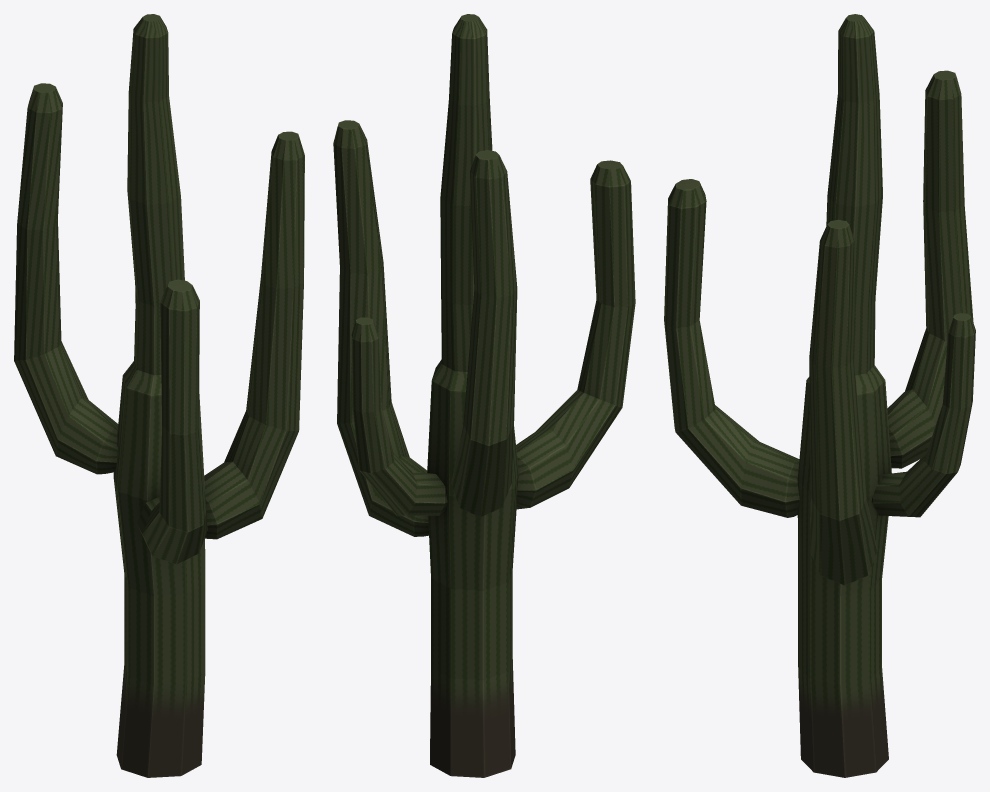
The model's file is Saguaro.gltf.
3 renders of one model, left to right at view 1: azimuth 30°, elevation 25°; view 2: azimuth 150°, elevation 25°; view 3: azimuth 270°, elevation 25°, orthographic.
Parts seen in each view (by area): view 1: node-0; view 2: node-0; view 3: node-0.
Boxes of the visible parts, left/top/right/bottom form: node-0: left=14, top=14, right=304, bottom=777; node-0: left=333, top=14, right=635, bottom=777; node-0: left=664, top=14, right=975, bottom=777.
Size of the model in its own units: 6.67 by 20.42 by 7.8.
1 material, 1 textured.
